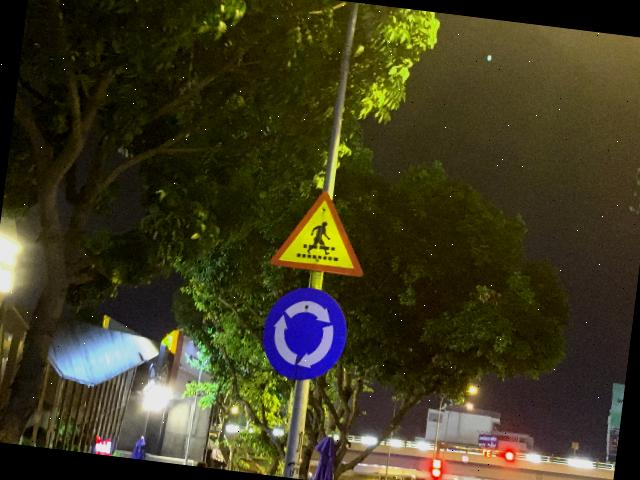duong-nguoi-di-bo-cat-ngang: (268, 185, 372, 278)
noi-giao-nhau-chay-theo-vong-xuyen: (256, 281, 352, 386)
